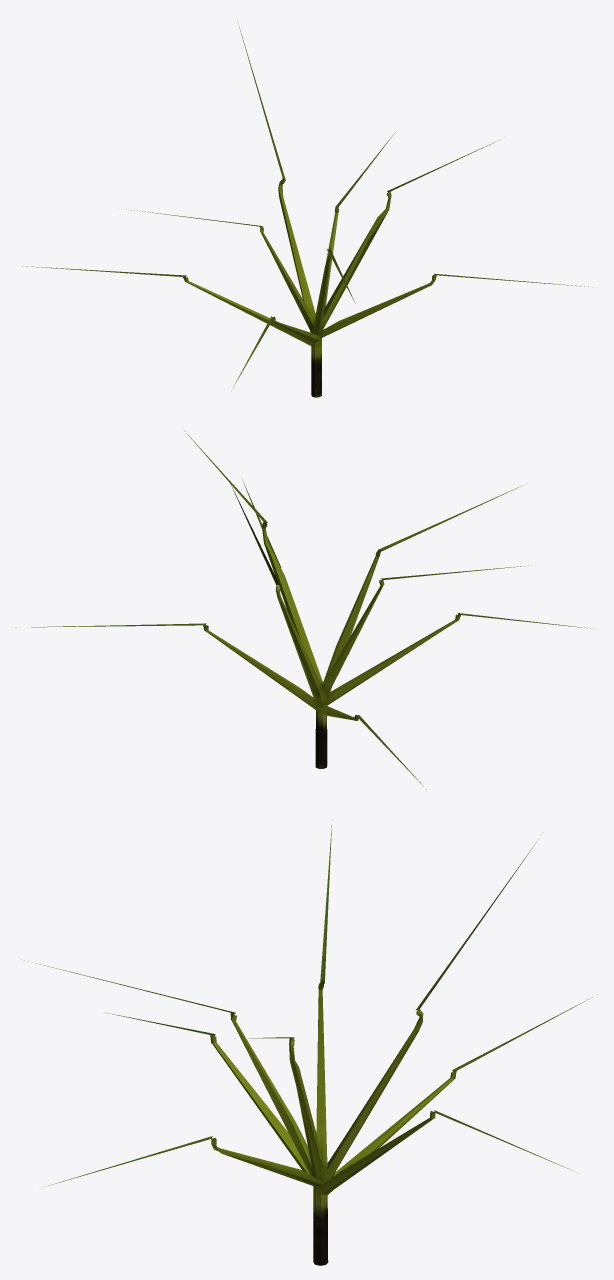
File: alocasia.lod1.glb
The picture shows the model from 3 angles, top to bottom: view 1: azimuth 30°, elevation 25°; view 2: azimuth 150°, elevation 25°; view 3: azimuth 270°, elevation 25°; orthographic projection. The views are drawn at different scales.
Visible parts, largest first — view 1: alocasia_macrorrhizos_lambert1_0; view 2: alocasia_macrorrhizos_lambert1_0; view 3: alocasia_macrorrhizos_lambert1_0.
Part boxes in pixels (<box>): alocasia_macrorrhizos_lambert1_0: <box>21,26,592,397</box>; alocasia_macrorrhizos_lambert1_0: <box>15,428,593,789</box>; alocasia_macrorrhizos_lambert1_0: <box>35,820,597,1265</box>.
Size of the model in its own units: 2.72 by 2.2 by 2.71.
1 material, 1 textured.
